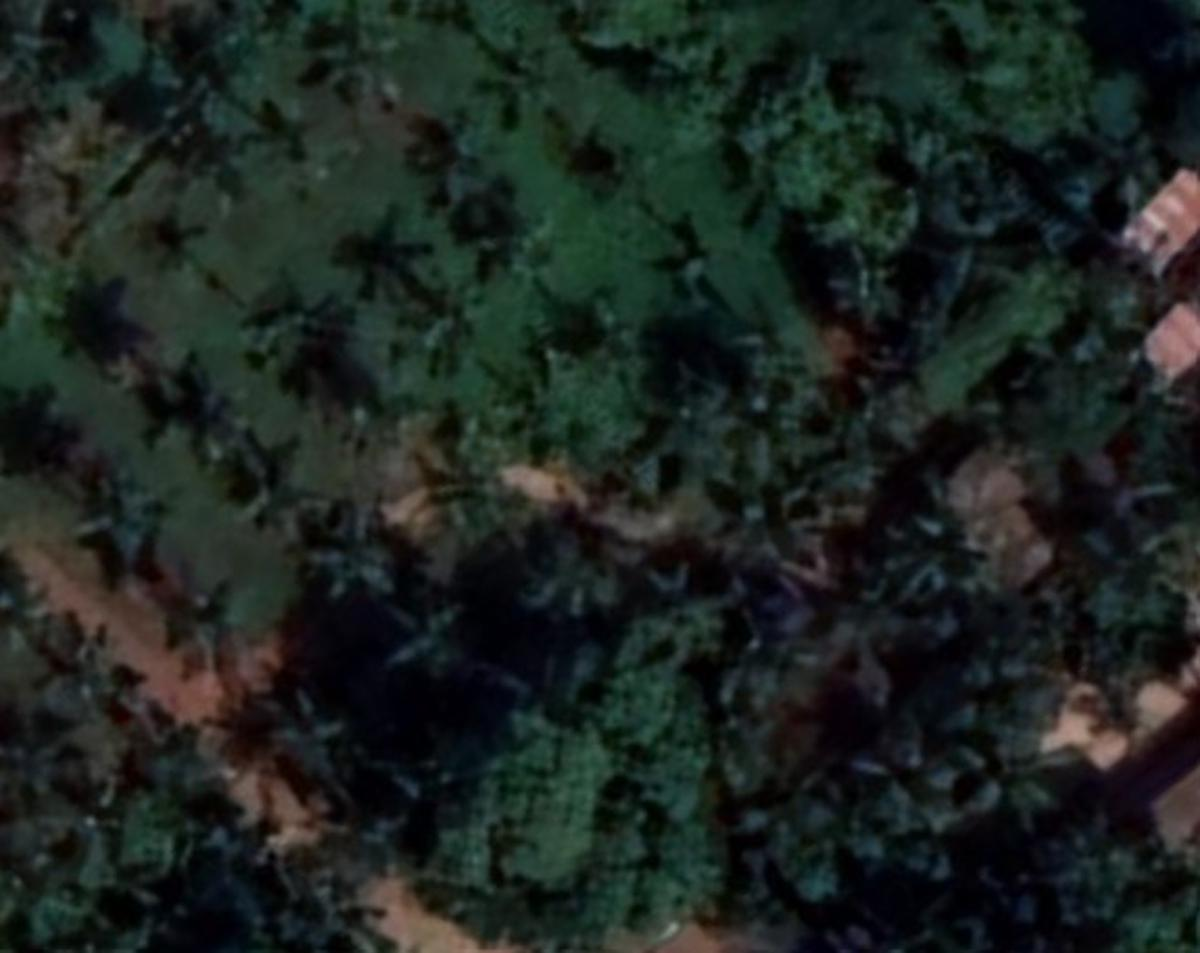coconut: (885, 502, 1011, 615), (299, 21, 421, 120), (65, 465, 171, 576), (473, 200, 578, 303), (288, 492, 394, 593), (237, 436, 332, 538), (409, 286, 502, 376), (173, 586, 261, 668), (259, 677, 341, 761), (405, 118, 473, 204)
